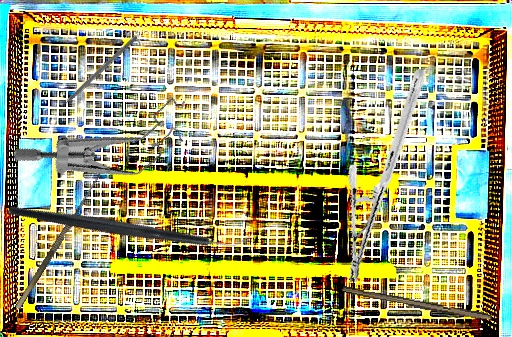Chopper: (7, 126, 251, 323)
Hook Surgical: (7, 167, 105, 310), (53, 34, 139, 114)
Needle Holder: (309, 68, 464, 284)
Scalpel Handle: (341, 285, 493, 324)
Speculum: (9, 47, 206, 232)
